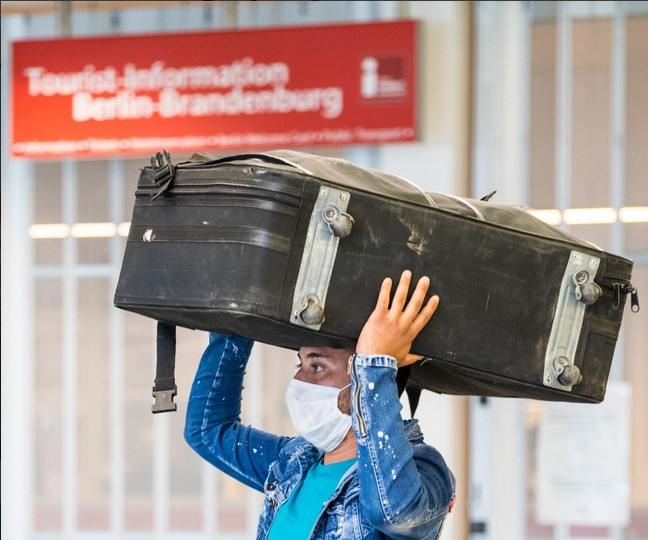face_with_mask: (284, 342, 377, 452)
